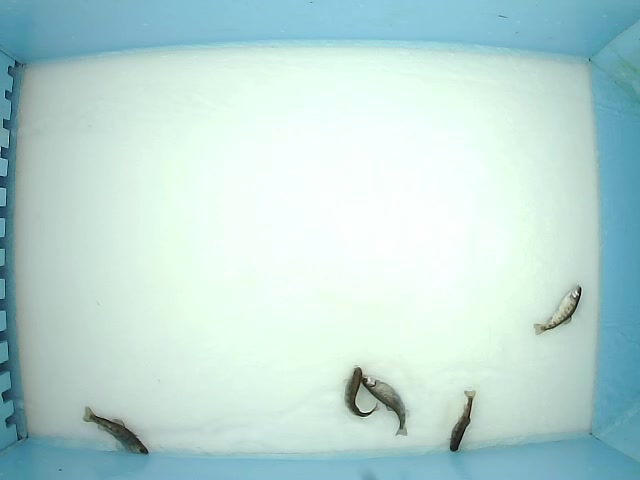fish: (80, 402, 151, 456), (529, 281, 585, 341), (444, 385, 486, 455), (363, 374, 409, 436), (335, 366, 381, 420)
